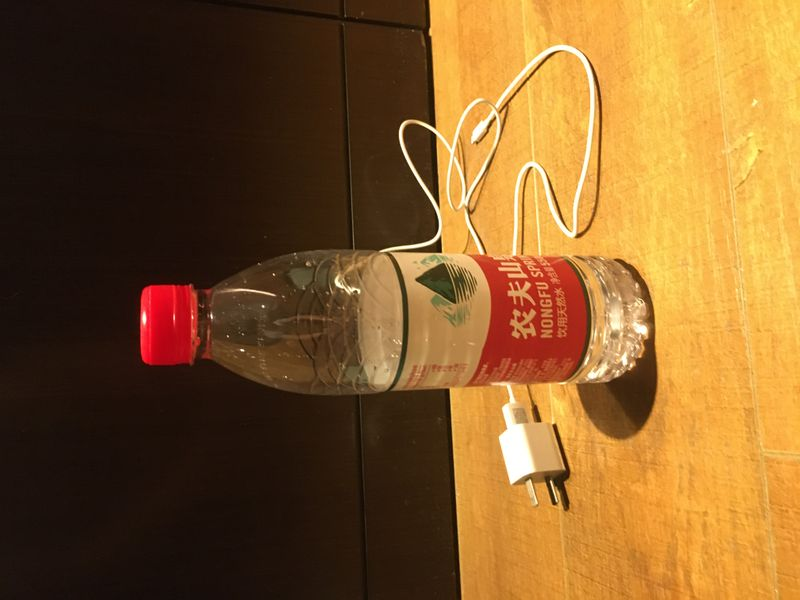5eca67a90202601e8cb8d104: (136, 243, 652, 393)
